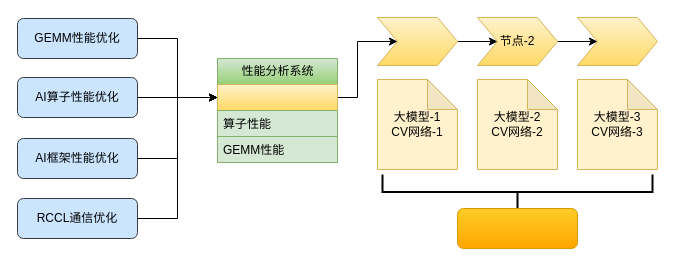
The diagram is 675 pixels wide and 266 high, and some of its shapes have lost their labels. The centre of each missing label's shape, as x and y in pixels:
"AI网络性能" goes at pixel 277 97.
"所有目标网络" goes at pixel 517 228.
"节点-1" goes at pixel 417 41.
"节点-3" goes at pixel 617 41.
